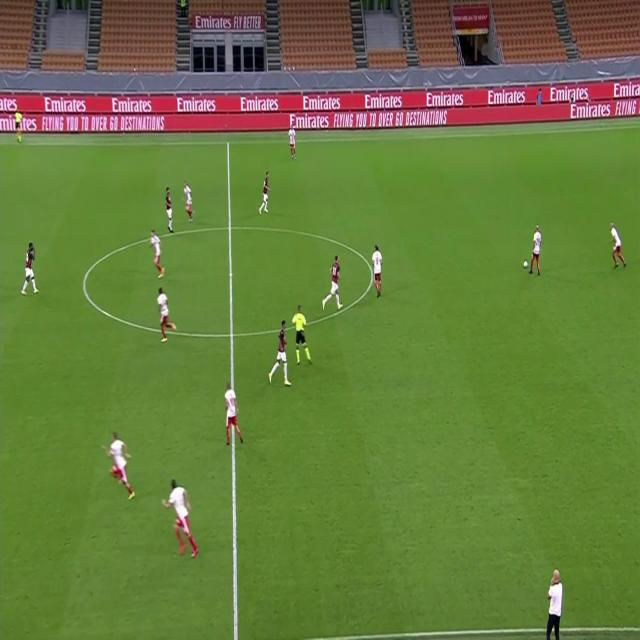ball: (522, 259, 528, 271)
player: (164, 476, 200, 560), (104, 429, 136, 503), (268, 318, 292, 387), (544, 567, 564, 640), (223, 382, 245, 447), (292, 302, 314, 367), (322, 252, 344, 314), (156, 285, 177, 343), (20, 240, 40, 297), (608, 222, 628, 270), (150, 229, 166, 281), (528, 224, 542, 276), (372, 242, 384, 300), (182, 180, 195, 222), (258, 170, 270, 215), (165, 185, 175, 234), (14, 106, 24, 144), (288, 117, 296, 159)
